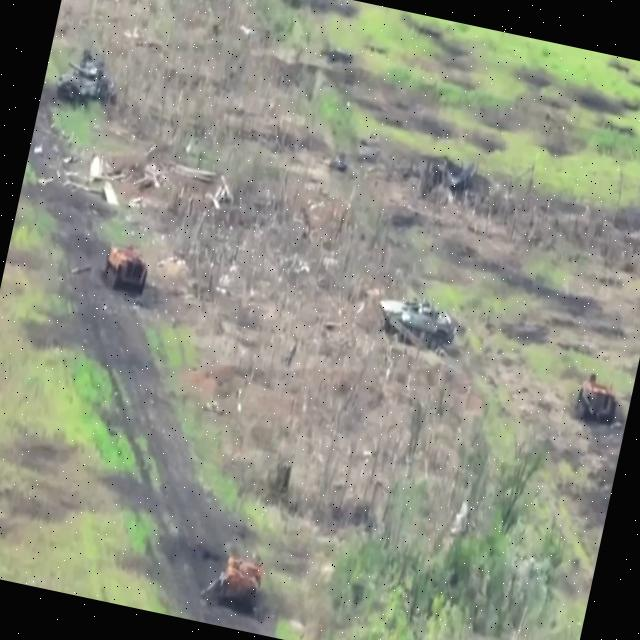AIFV: (373, 287, 465, 357), (211, 551, 269, 613), (96, 239, 155, 299), (572, 371, 625, 431)
MBT: (52, 50, 124, 119)
